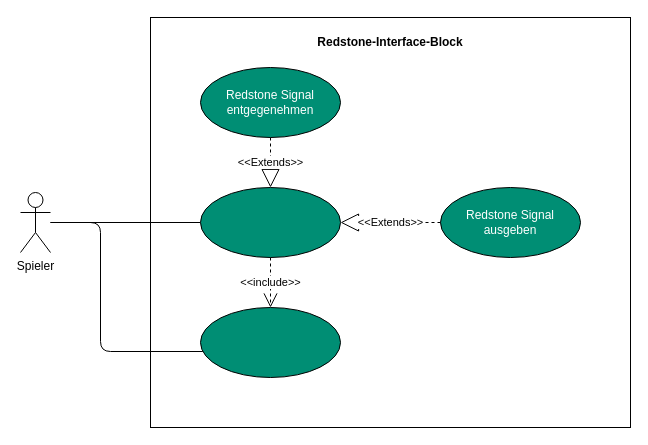
Some shapes in this 648 by 445 pixel diagram are drawn without their labels. The shapes that lost their labels are listed below. From the top down, each one's centre as x and y in pixels, then its label:
point 270,222: Redstone in den "Computer" einbinden
point 270,342: Redstone anbinden
